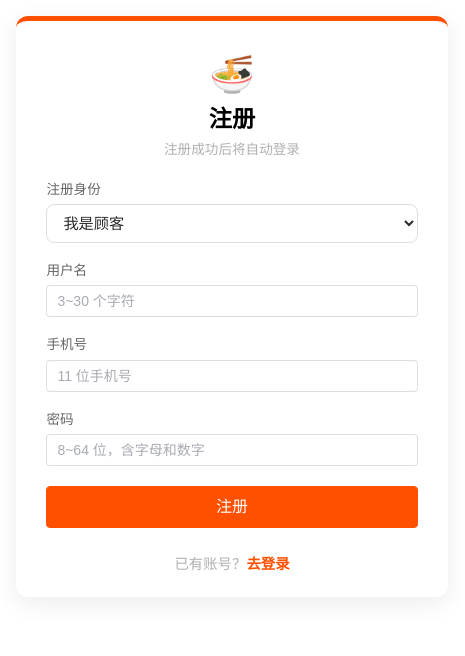
Test case: 注册页（角色化） › 骑手注册失败时展示后端原因
Select "我是骑手" in the dropdown with test id "register-role": (232, 224) [46,204,418,243]
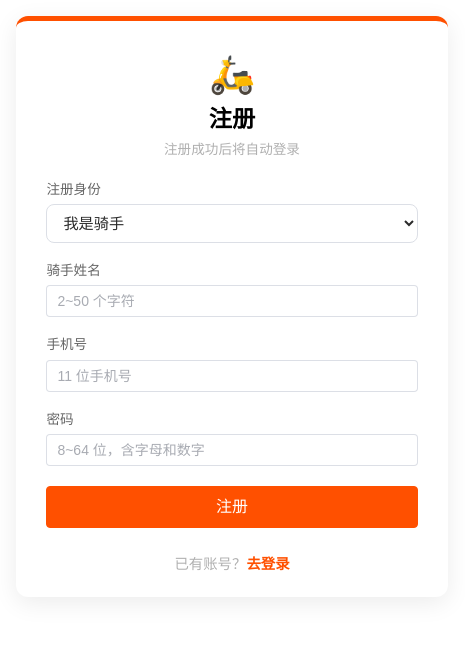
In the field with test id "register-rider-name": (232, 301) [57,286,407,316], type "李骑手"
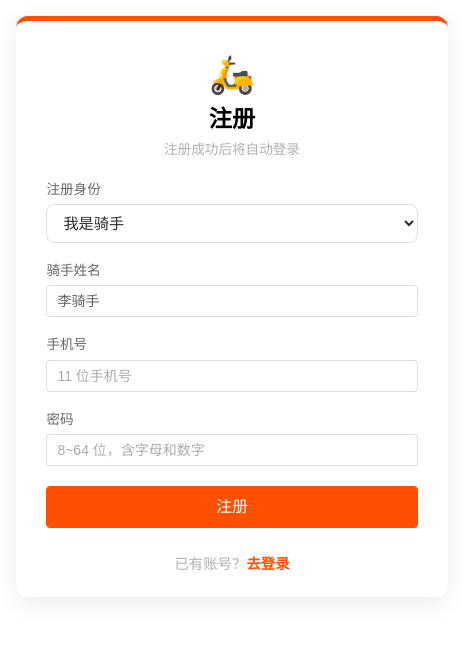
In the field with test id "register-phone": (232, 376) [57,361,407,391], type "13700137000"
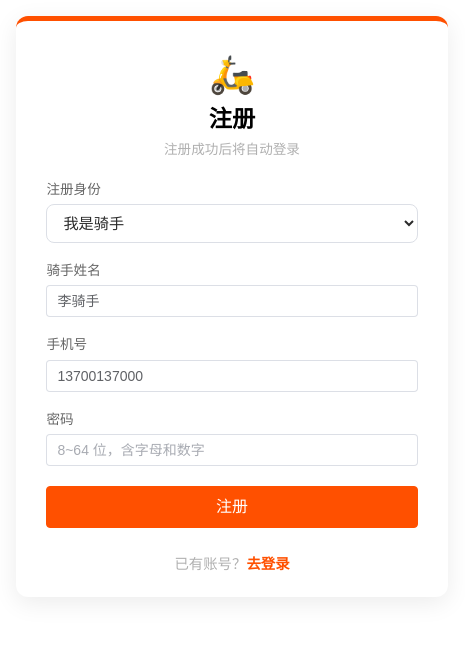
In the password field with test id "register-password": (232, 450) [57,435,407,465], type "abc12345"
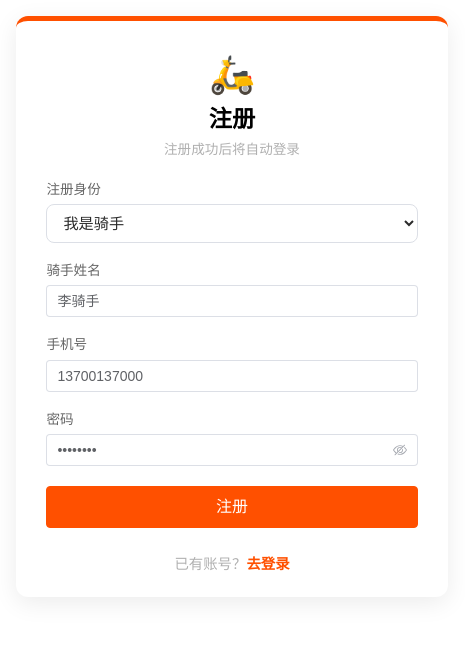
Click the button with test id "register-submit": (232, 507) [46,486,418,528]
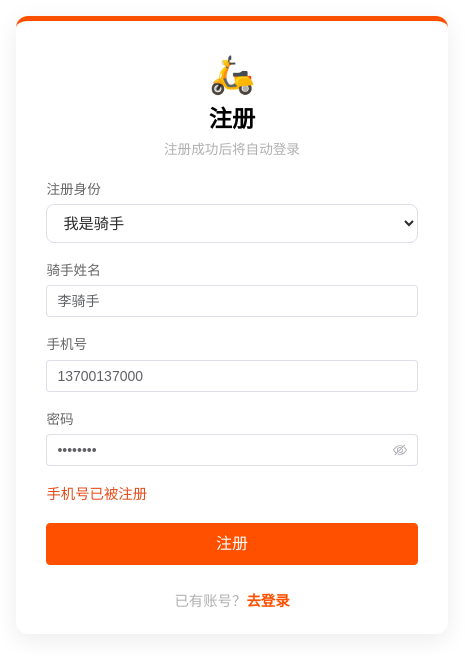
Expected: the message with test id "register-error" reads "手机号已被注册", [46,486,147,502]
